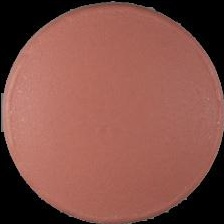63187-475: (0, 0, 224, 224)
